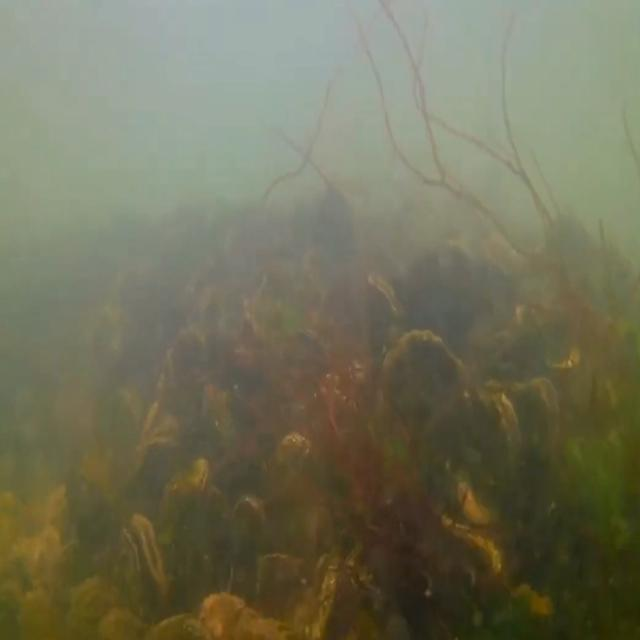Oyster-Closed: (364, 269, 406, 382), (157, 454, 212, 520)
Oyster-Indeterminate: (377, 326, 469, 428), (453, 386, 524, 482), (486, 374, 560, 456), (170, 324, 210, 447), (229, 494, 271, 602), (437, 513, 503, 579), (67, 573, 126, 640), (141, 352, 176, 459), (265, 433, 315, 498), (201, 383, 239, 456), (455, 471, 503, 525), (135, 415, 184, 467)
Oyster-Open: (111, 514, 171, 640), (306, 551, 339, 640)
